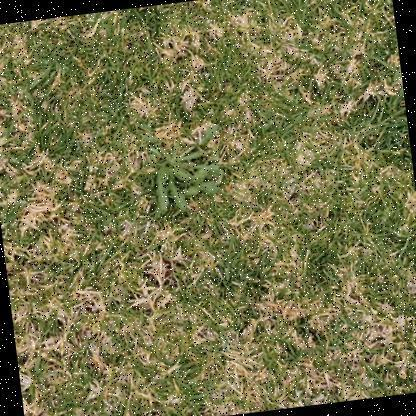Weeds: (143, 124, 231, 215)
